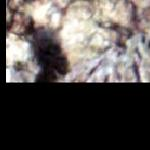alive: (7, 4, 149, 80)
